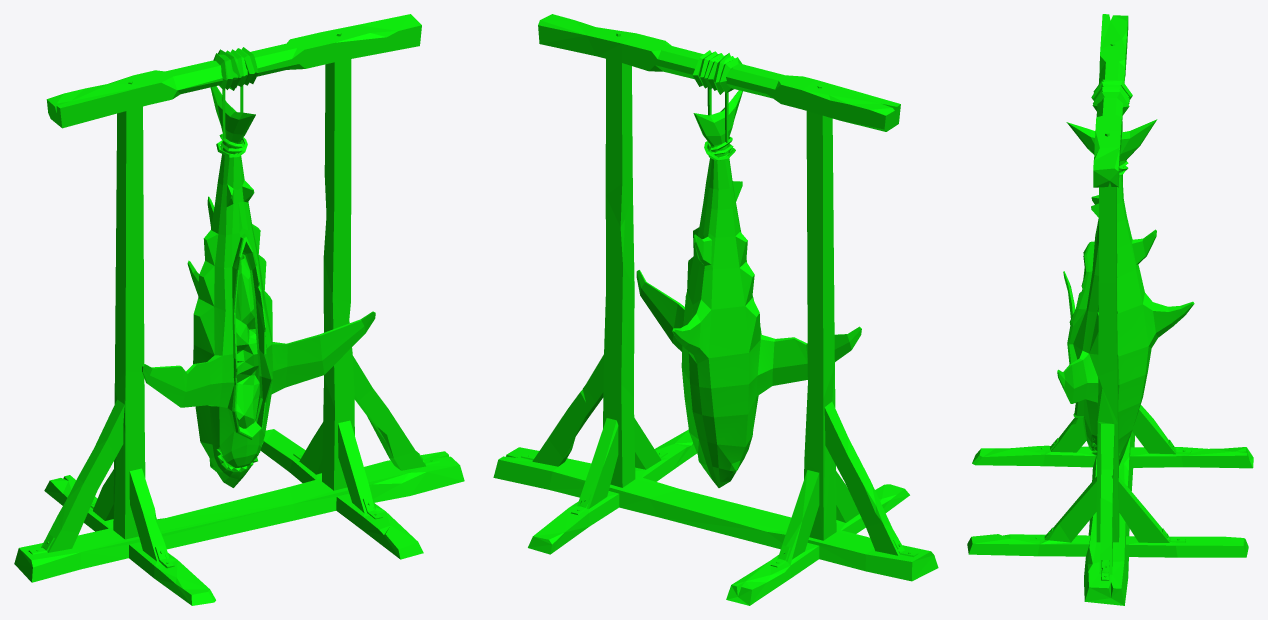
File: SM_Shark_Hanging.fbx
3 views of the same model, side by side, from view 1: azimuth 30°, elevation 25°; view 2: azimuth 150°, elevation 25°; view 3: azimuth 270°, elevation 25° (orthographic). The views are drawn at different scales.
Visible parts, largest first — view 1: shark-hanging; view 2: shark-hanging; view 3: shark-hanging.
Boxes of the visible parts, left/top/right/bottom form: shark-hanging: left=14, top=14, right=464, bottom=605; shark-hanging: left=493, top=14, right=938, bottom=605; shark-hanging: left=967, top=14, right=1253, bottom=605.
Size of the model in its own units: 4.34 by 4.56 by 2.78.
